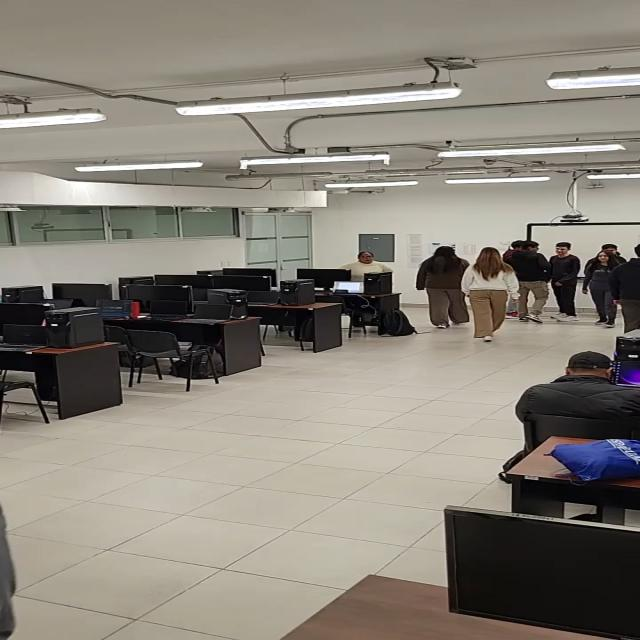Persona: (464, 245, 514, 342), (414, 246, 465, 338), (512, 239, 549, 325), (552, 242, 588, 323), (587, 254, 623, 324)
